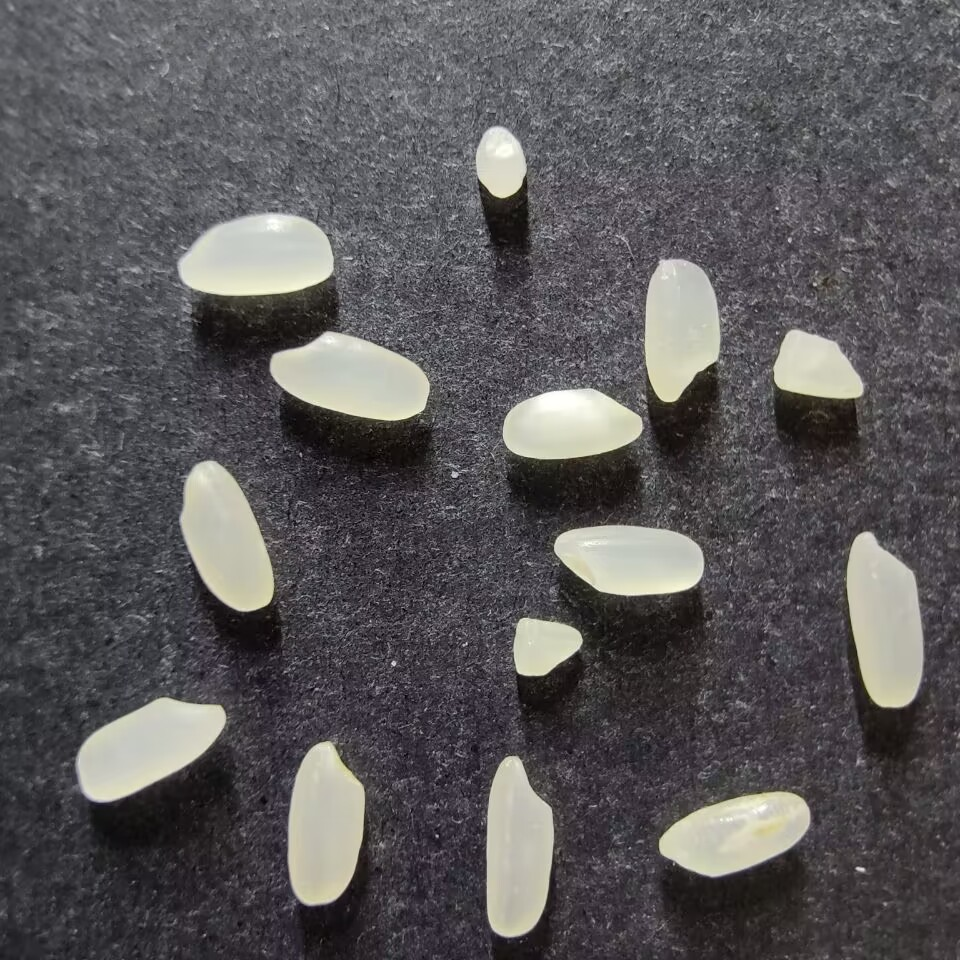broken: (772, 330, 864, 399), (513, 617, 583, 677), (474, 126, 527, 198)
rice: (75, 697, 226, 802), (269, 331, 429, 421), (179, 460, 273, 612), (845, 531, 923, 708), (286, 739, 365, 906), (658, 791, 811, 877), (177, 213, 334, 296), (484, 755, 554, 937), (643, 258, 721, 404), (553, 524, 704, 595), (502, 387, 643, 460)
